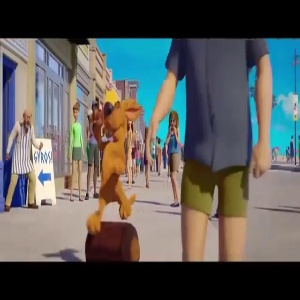Scooby: (95, 94, 142, 156)
